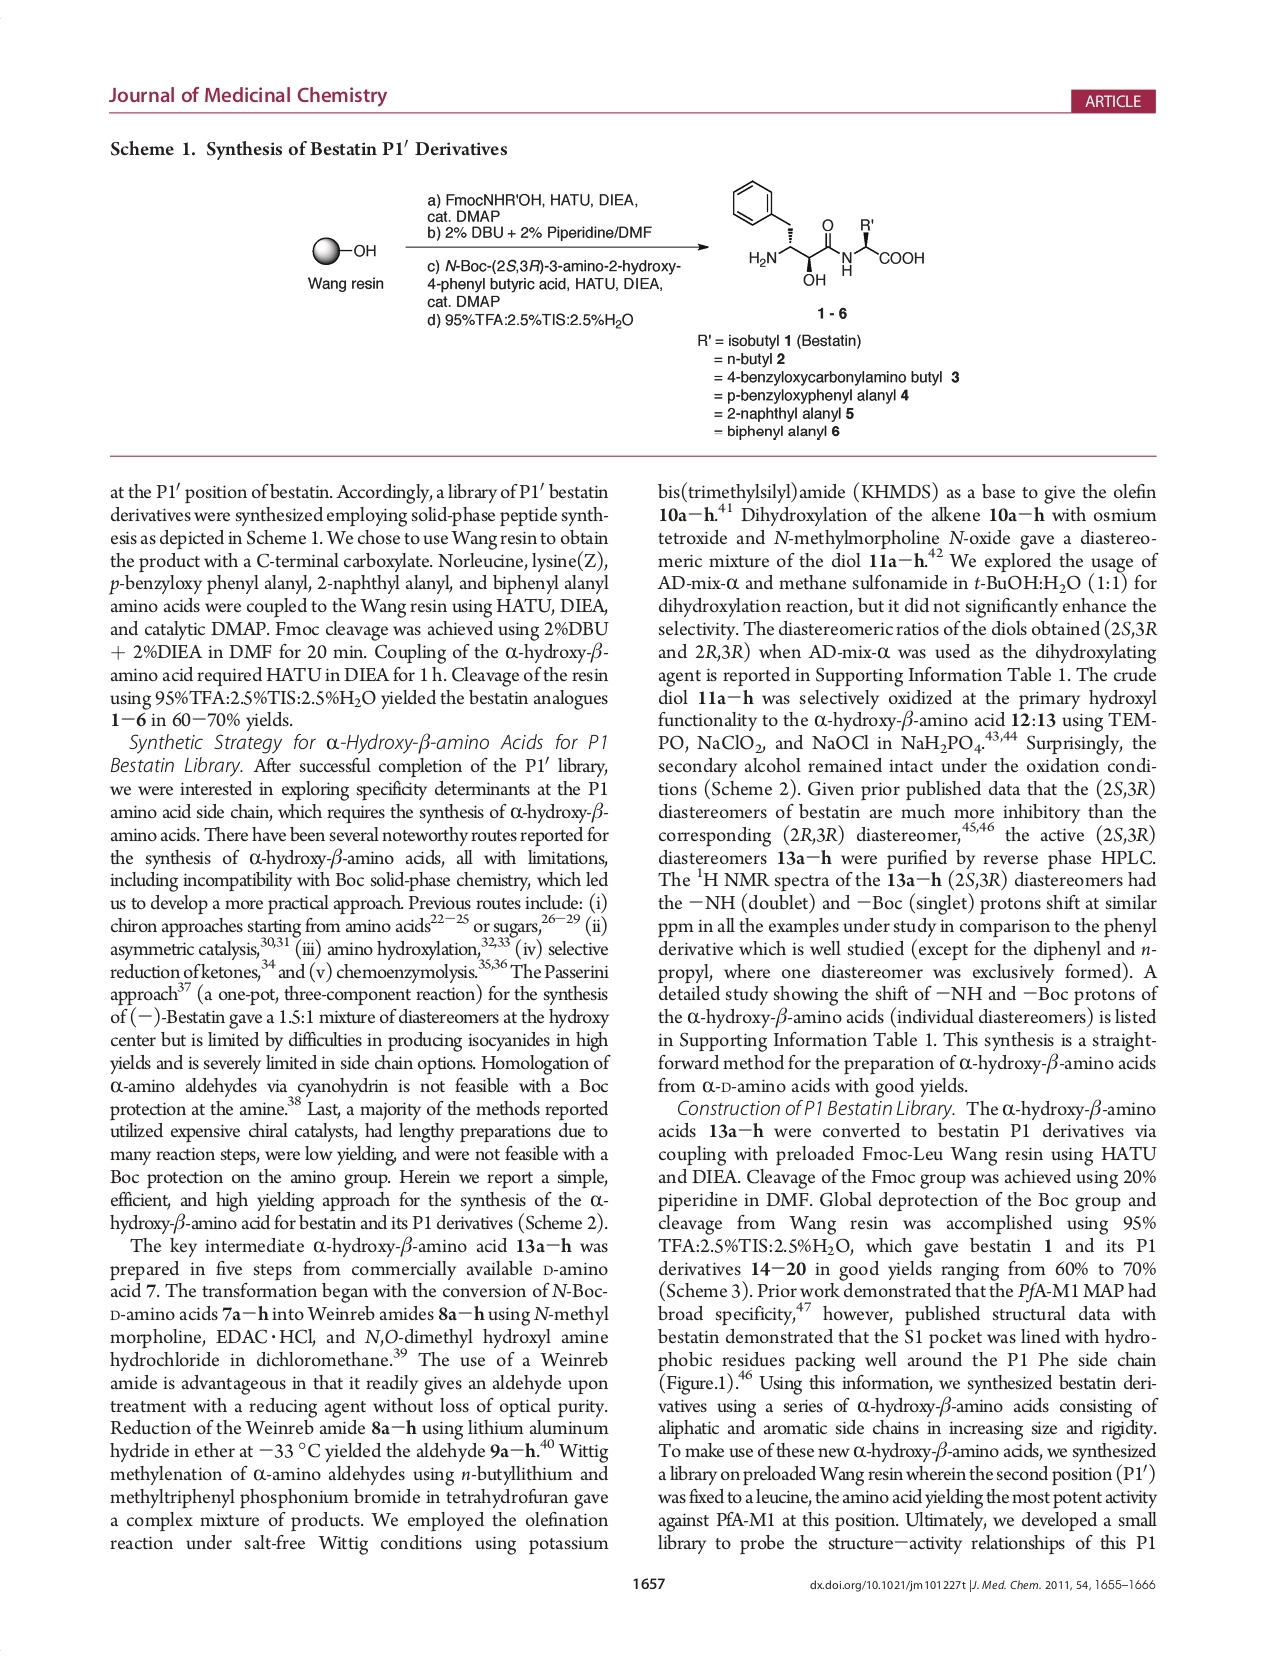exist_molecular: (723, 172, 931, 289)
